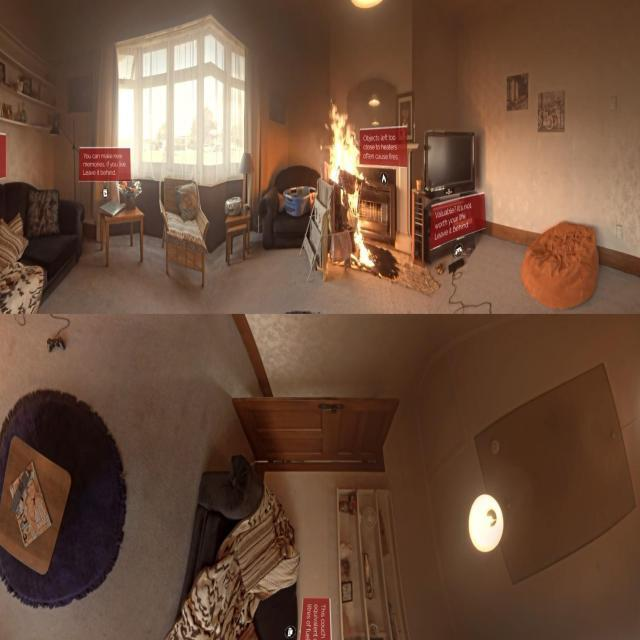smoke: (322, 97, 374, 275)
